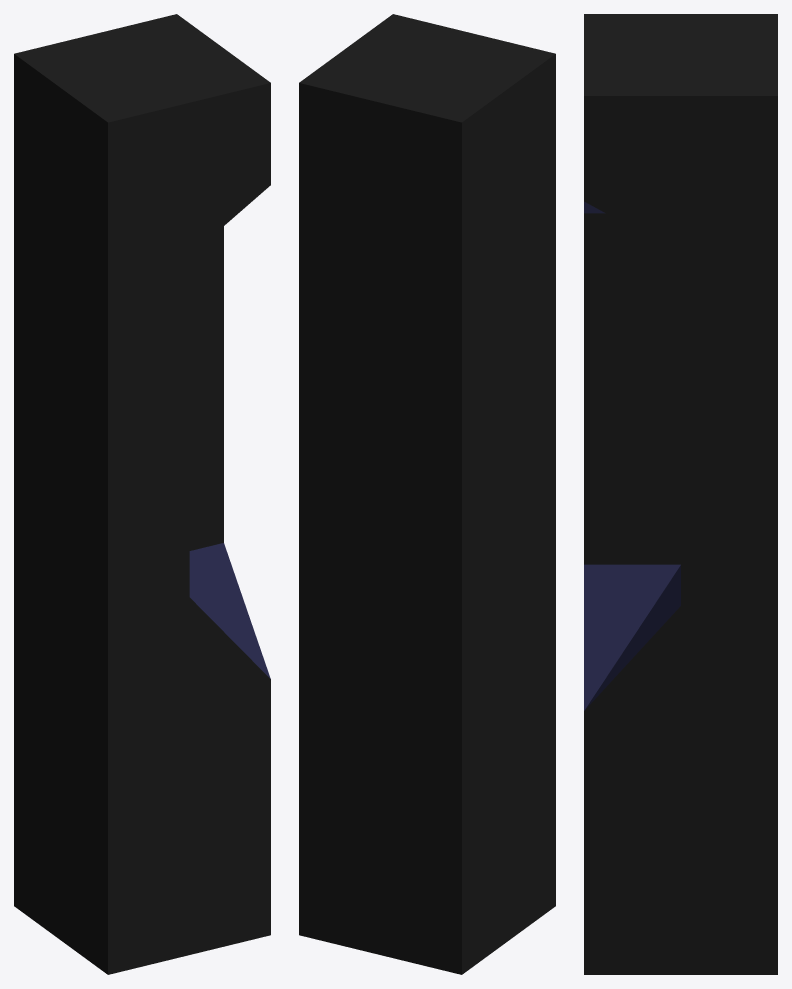
File: plane_wall_inner_corner.obj
3 views of the same model, side by side, from view 1: azimuth 30°, elevation 25°; view 2: azimuth 150°, elevation 25°; view 3: azimuth 270°, elevation 25° (orthographic). The views are drawn at different scales.
Parts seen in each view (by area): view 1: PlaneWallInnerCorner_Plane.003; view 2: PlaneWallInnerCorner_Plane.003; view 3: PlaneWallInnerCorner_Plane.003.
Part boxes in pixels (left/top/right/bottom): PlaneWallInnerCorner_Plane.003: left=14, top=14, right=270, bottom=974; PlaneWallInnerCorner_Plane.003: left=299, top=14, right=555, bottom=974; PlaneWallInnerCorner_Plane.003: left=584, top=14, right=777, bottom=974.
Size of the model in its own units: 1 by 5 by 1.
